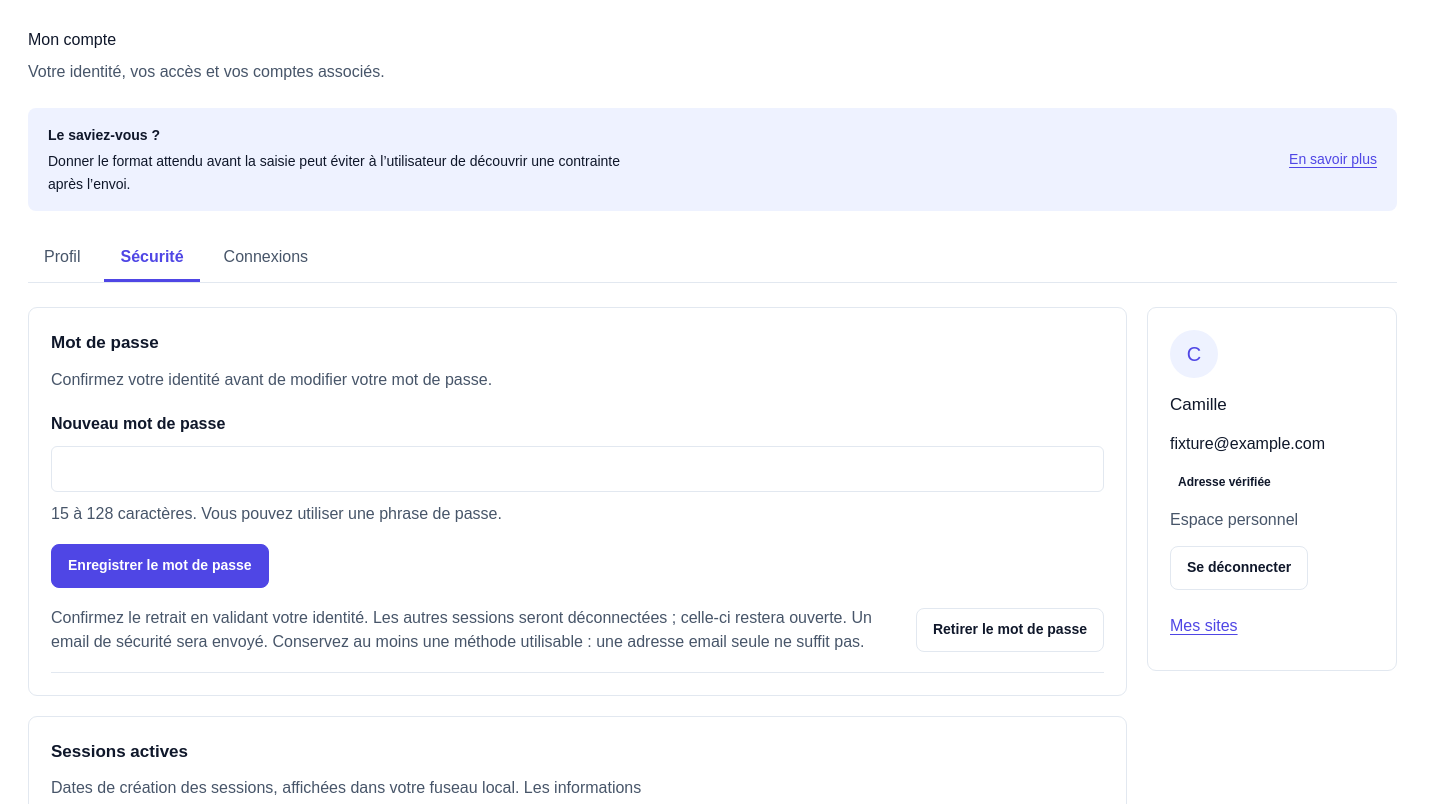
Scenario: requires identity confirmation before a password mutation and refreshes only after success
Type "a synthetic long passphrase" into the password field labelled "Nouveau mot de passe" at (578, 469), box [51,446,1104,492]
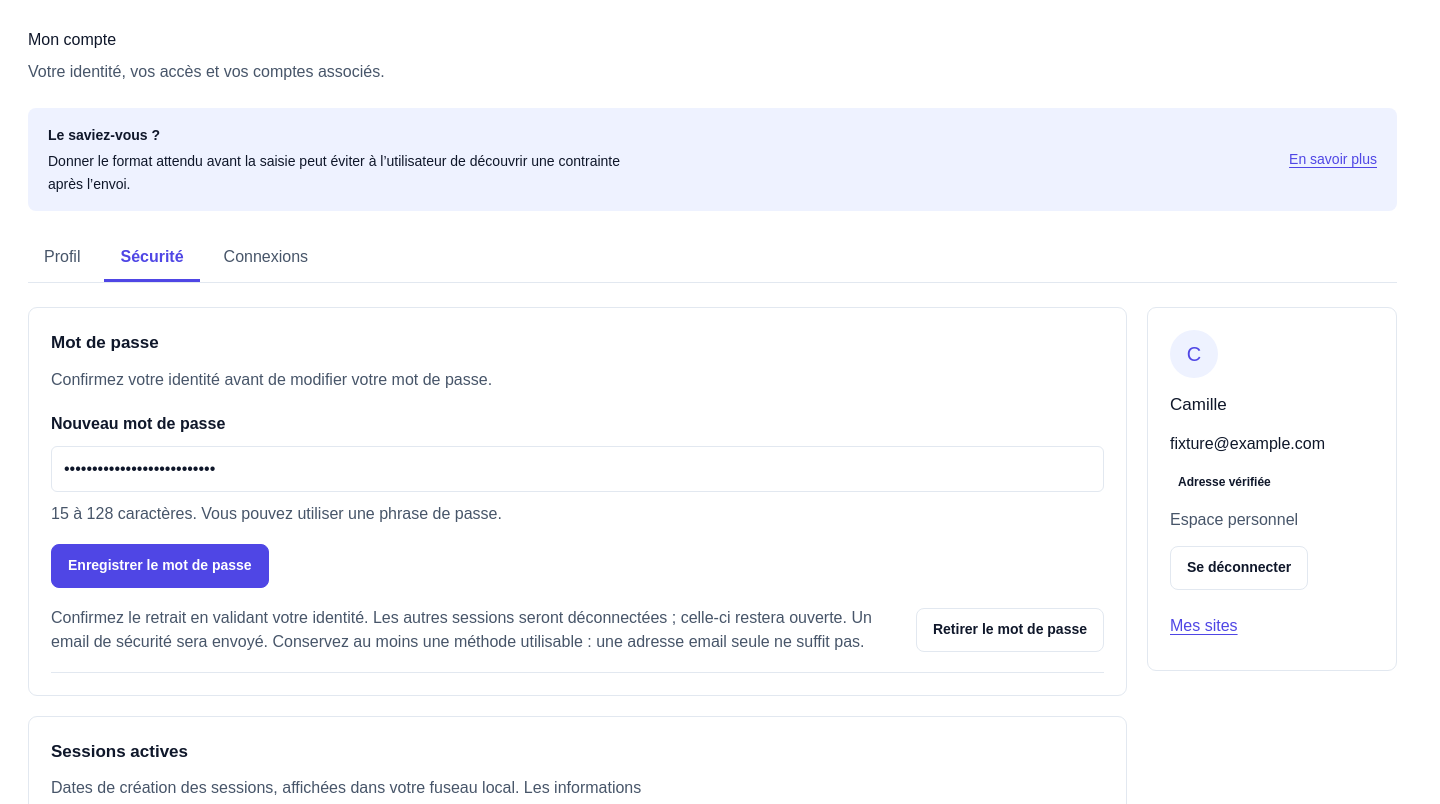
Submit the form named "Enregistrer le mot de passe", box [51,412,1104,588]
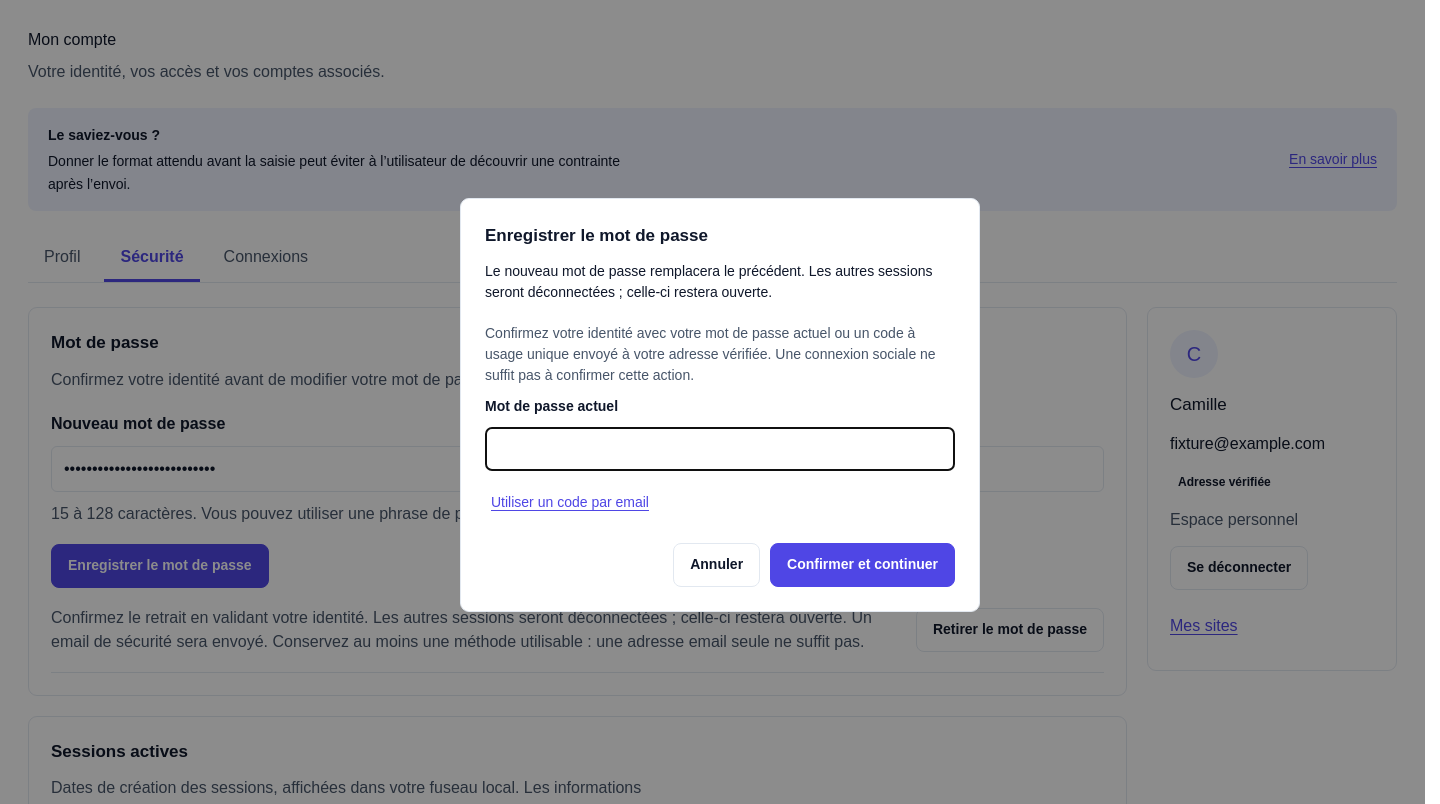
Type "current synthetic password" into the password field labelled "Mot de passe actuel" at (720, 449), box [485,427,955,471]
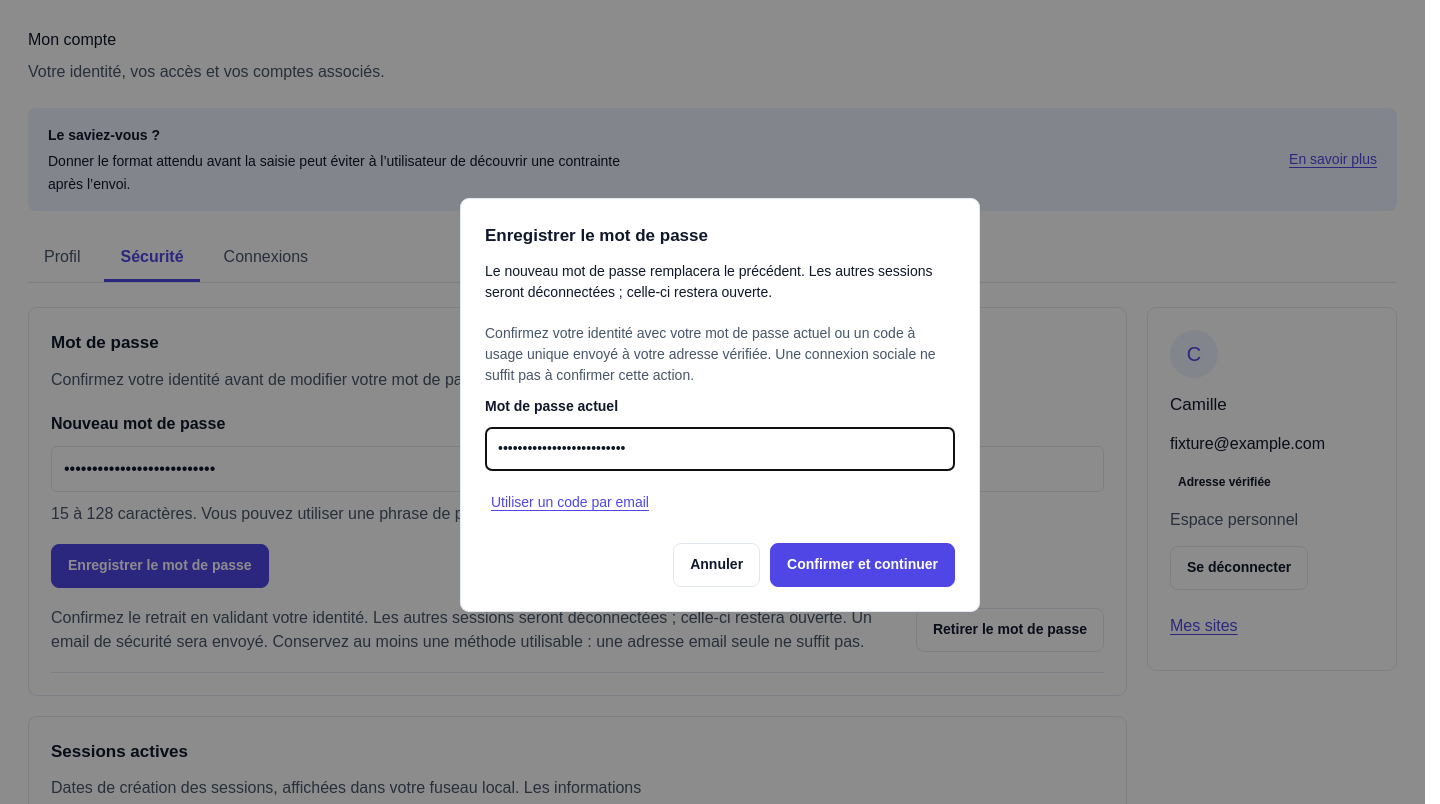
Submit the form named "Confirmer et continuer", box [485,323,955,587]
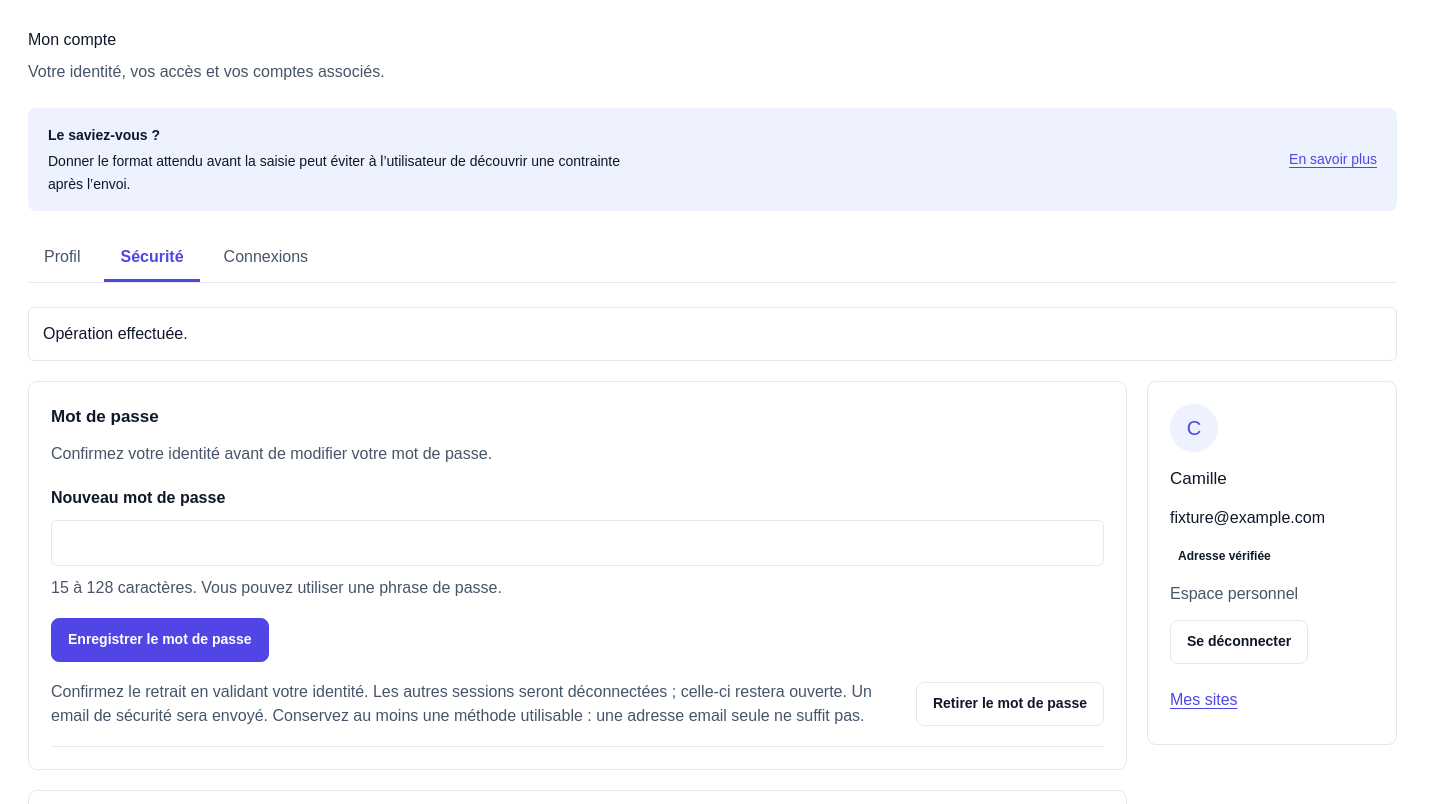
Result: the dialog is gone
Result: the password field labelled "Nouveau mot de passe" is empty at [51,520,1104,566]
